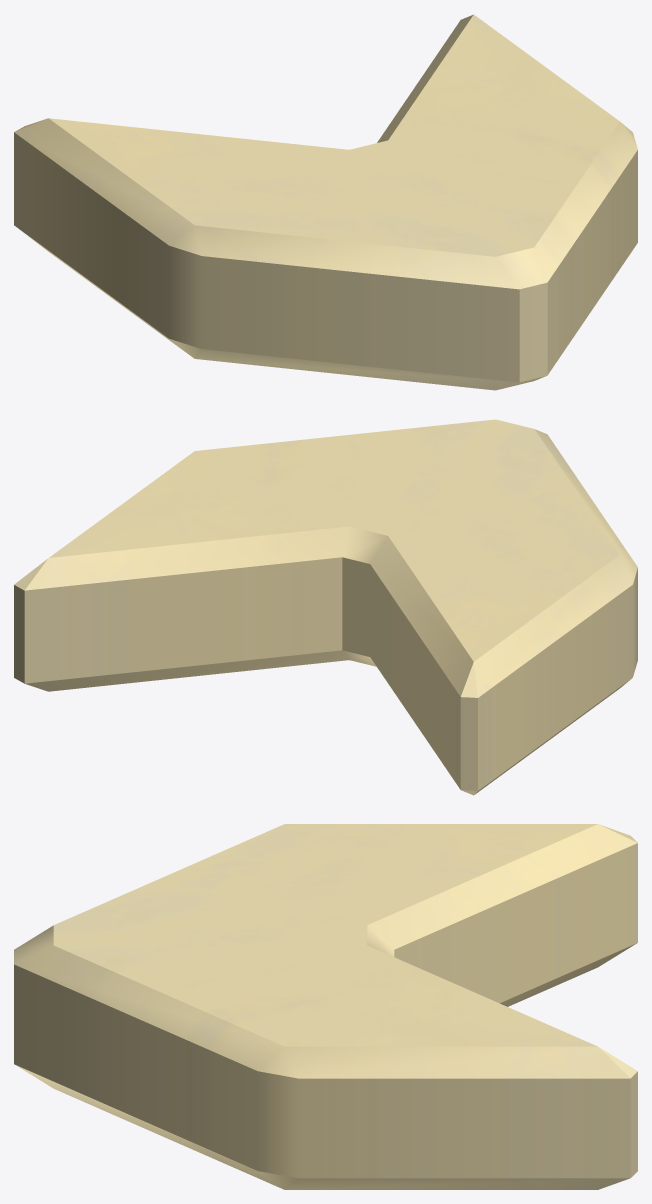
The model's file is GreekArrow.fbx.
The picture shows the model from 3 angles, top to bottom: view 1: azimuth 30°, elevation 25°; view 2: azimuth 150°, elevation 25°; view 3: azimuth 270°, elevation 25°; orthographic projection. The views are drawn at different scales.
Parts seen in each view (by area): view 1: Cube.049; view 2: Cube.049; view 3: Cube.049.
Boxes of the visible parts, x1,y1,x2,y2 form: Cube.049: [14, 14, 637, 390]; Cube.049: [14, 419, 637, 795]; Cube.049: [14, 824, 637, 1189].
Bounding box in the file's own units: 302 × 83.18 × 328.
Materials: 1 (1 with a texture image).
